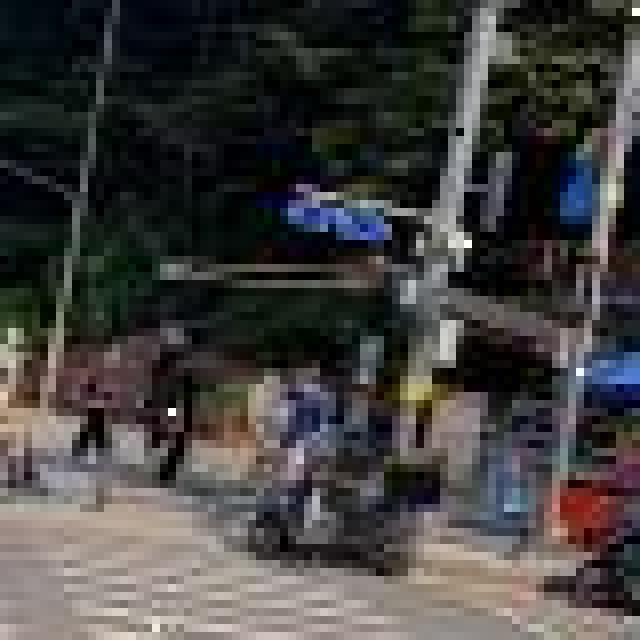crosswalk: (40, 520, 400, 632)
